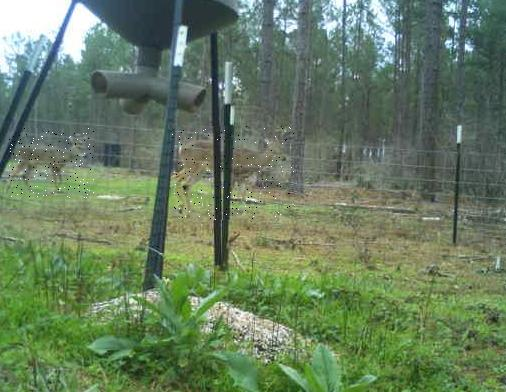Deer: (171, 127, 293, 221), (8, 129, 93, 199)
